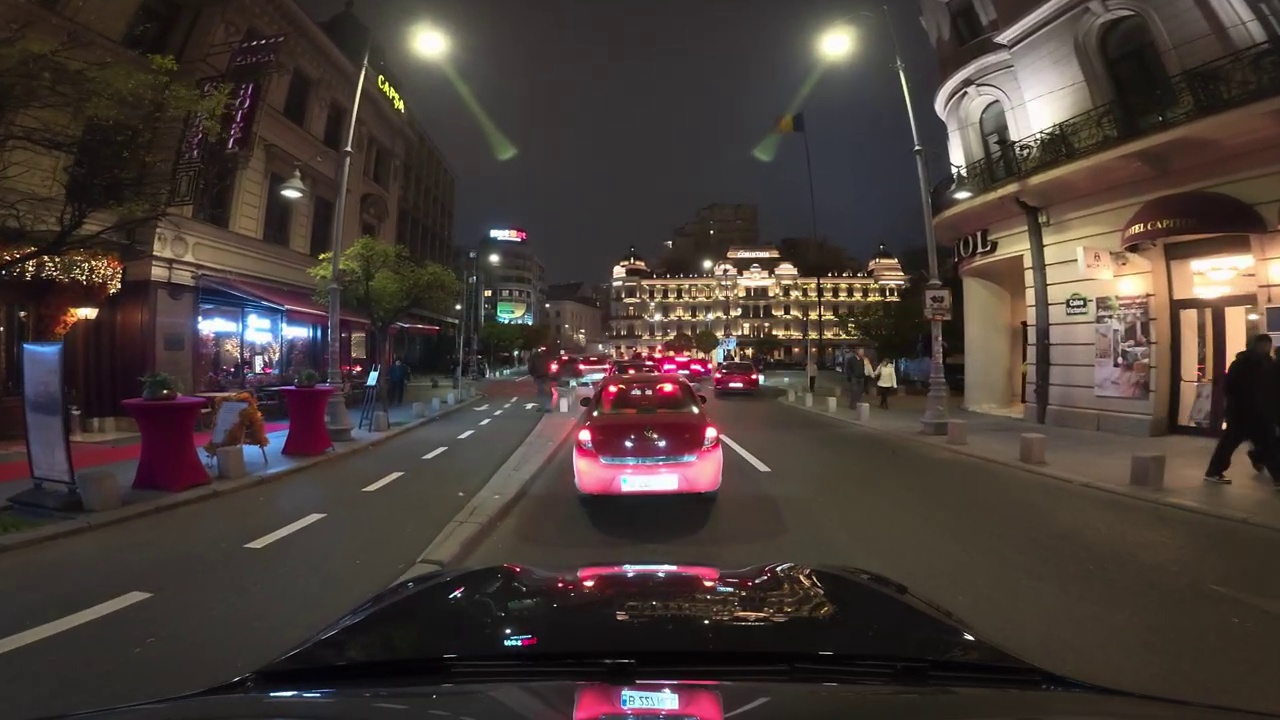acesa: (816, 26, 856, 62), (409, 26, 450, 61), (496, 137, 516, 159)
